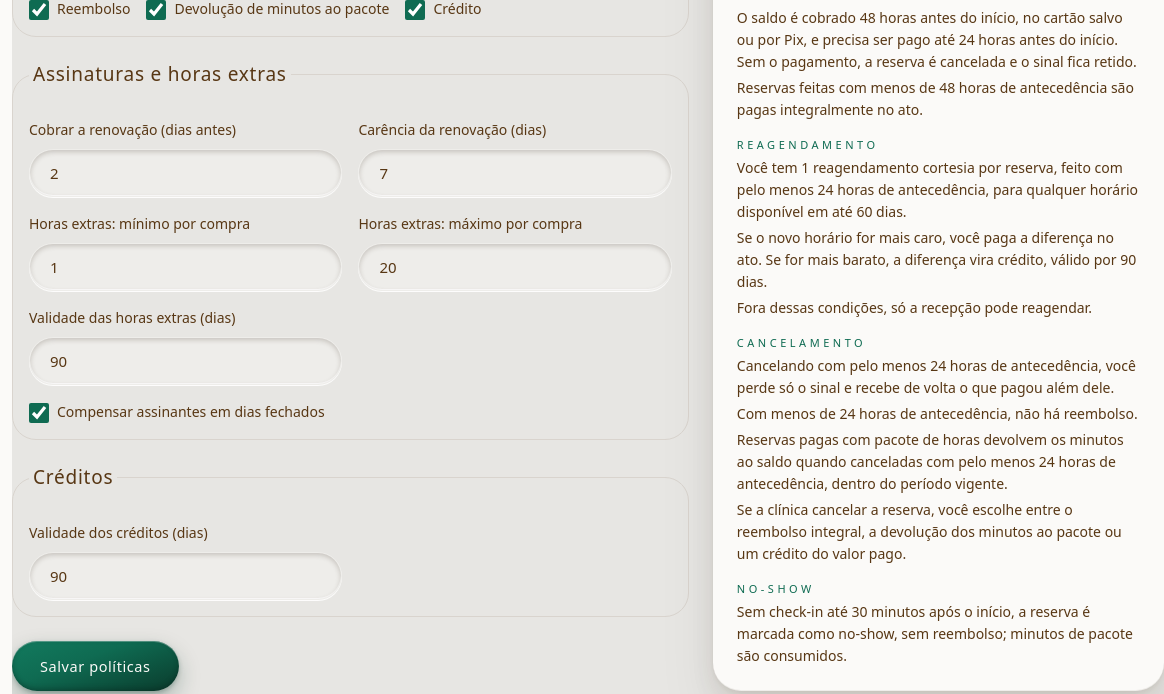
Test: PoliciesPanel (NUC-176) › shows the errors of a 422 on both deadline fields
(page scrolled)
Click the button "Salvar políticas".
click(95, 666)  # box [12,641,179,691]
(page scrolled)
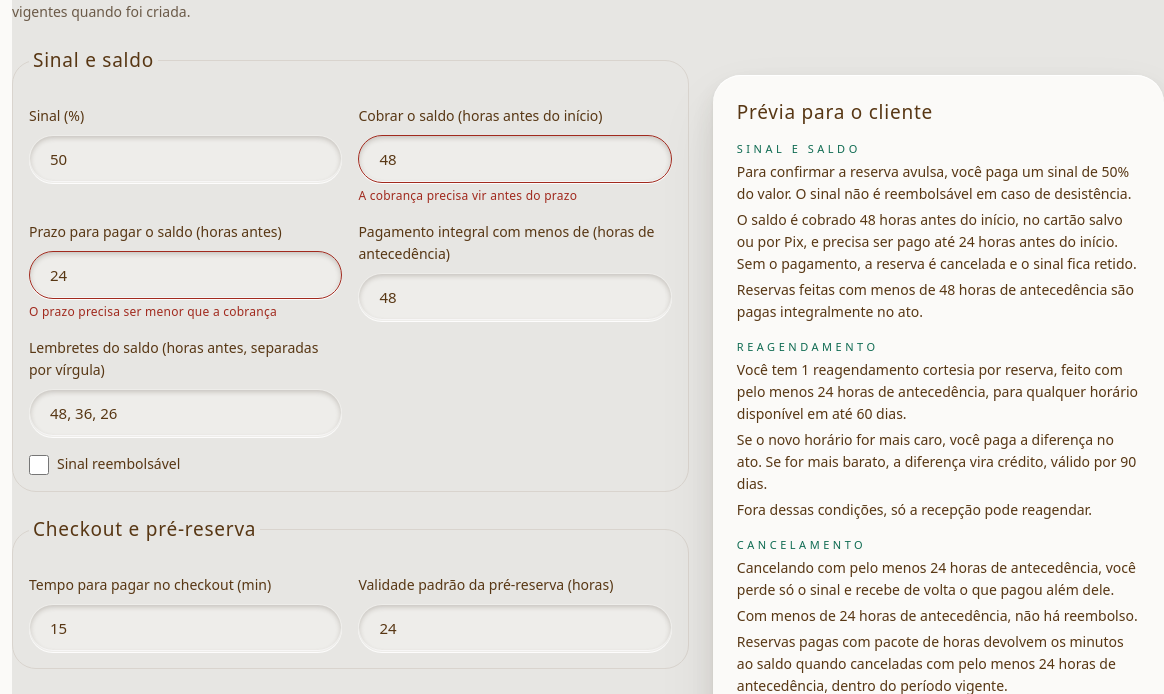
Now the text "A cobrança precisa vir antes do prazo" is shown, box [358,187,577,204]
Now the text "O prazo precisa ser menor que a cobrança" is shown, box [29,303,277,320]
